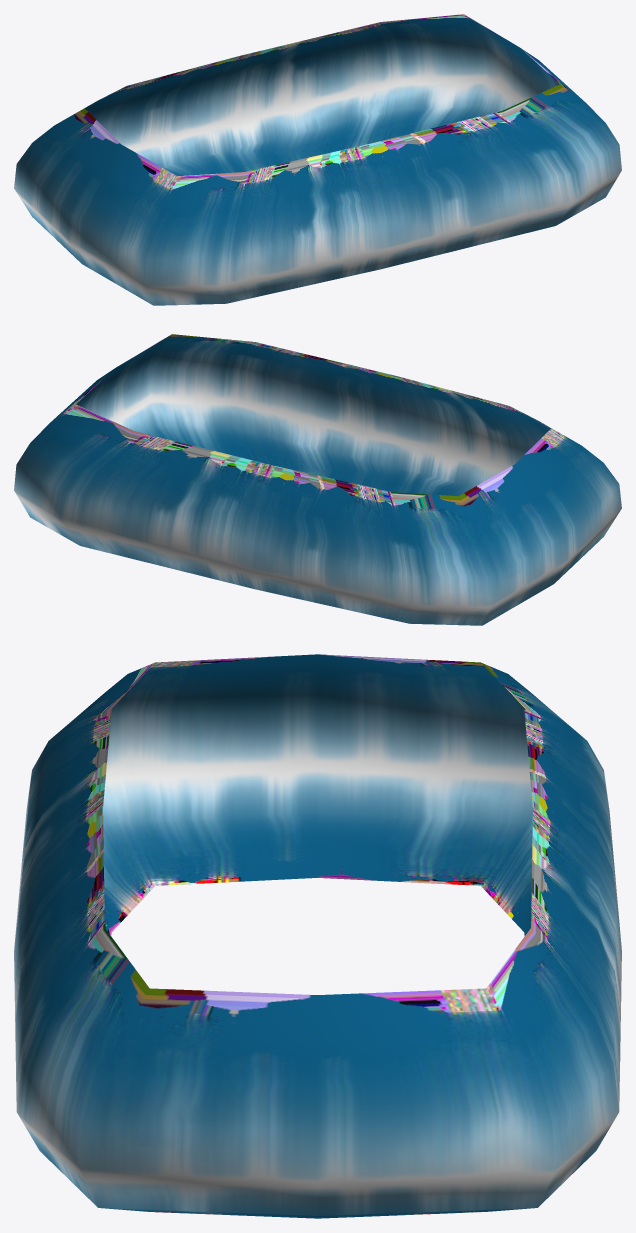
File: medium_unit_regenerating.obj
3 views of the same model, one above another, from view 1: azimuth 30°, elevation 25°; view 2: azimuth 150°, elevation 25°; view 3: azimuth 270°, elevation 25° (orthographic). The views are drawn at different scales.
Visible parts, largest first — view 1: pSphere2; view 2: pSphere2; view 3: pSphere2.
Part boxes in pixels (box(x1,y1,x2,y2)): pSphere2: box(14, 14, 621, 305); pSphere2: box(14, 334, 621, 625); pSphere2: box(14, 654, 621, 1218).
Size of the model in its own units: 46.31 by 11.38 by 28.06.
1 material, 1 textured.
